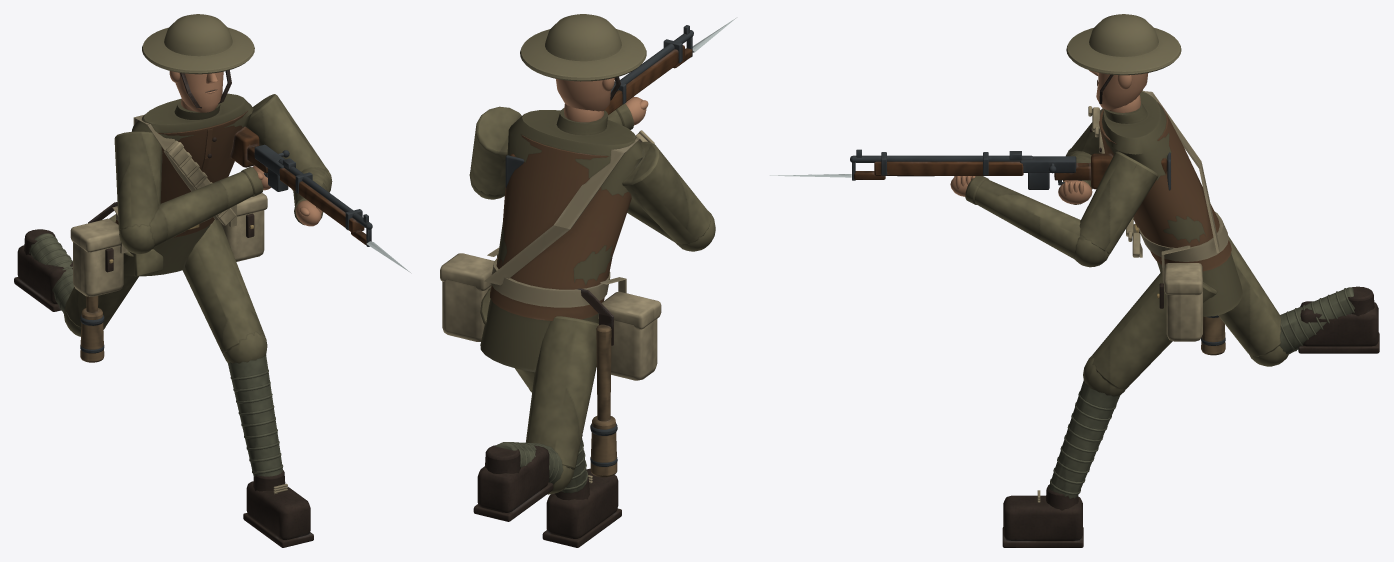
3 renders of one model, left to right at view 1: azimuth 30°, elevation 25°; view 2: azimuth 150°, elevation 25°; view 3: azimuth 270°, elevation 25°, orthographic. The views are drawn at different scales.
Visible parts, largest first — view 1: Leg_L, Helmet, Service_dress, Forearm_R, Upper_arm_R, Boot_L, Grenade_bag_R, Jerkin, Leg_R, Upper_arm_L, Grenade_bag_L, Rifle_woodwork (+7 smaller); view 2: Jerkin, Service_dress, Leg_R, Helmet, Upper_arm_R, Boot_R, Grenade_bag_R, Boot_L, Grenade_bag_L, Upper_arm_L, Trench_club, Bandolier (+10 smaller); view 3: Leg_L, Leg_R, Service_dress, Jerkin, Helmet, Forearm_L, Boot_L, Upper_arm_L, Boot_R, Grenade_bag_L, Rifle_woodwork, Rifle_metalwork (+4 smaller).
Part boxes in pixels (box(x1,y1,x2,y2)): Leg_L: box(182, 219, 283, 476); Helmet: box(142, 14, 254, 108); Service_dress: box(123, 93, 253, 276); Forearm_R: box(119, 167, 263, 254); Upper_arm_R: box(114, 131, 162, 231); Boot_L: box(243, 470, 313, 547); Grenade_bag_R: box(70, 206, 127, 296); Jerkin: box(115, 111, 247, 237); Leg_R: box(29, 214, 138, 336); Upper_arm_L: box(246, 94, 326, 190); Grenade_bag_L: box(221, 193, 267, 261); Rifle_woodwork: box(230, 126, 364, 232); Jerkin: box(490, 134, 631, 320); Service_dress: box(480, 108, 643, 372); Leg_R: box(495, 316, 598, 494); Helmet: box(520, 14, 646, 100); Upper_arm_R: box(622, 141, 710, 244); Boot_R: box(473, 445, 553, 521); Grenade_bag_R: box(598, 277, 661, 380); Boot_L: box(542, 468, 621, 547); Grenade_bag_L: box(440, 247, 498, 341); Upper_arm_L: box(470, 106, 521, 195); Trench_club: box(590, 324, 617, 477); Bandolier: box(484, 130, 654, 285); Leg_L: box(1049, 271, 1217, 498); Leg_R: box(1218, 236, 1354, 366); Service_dress: box(1102, 91, 1242, 316); Jerkin: box(1090, 102, 1231, 271); Helmet: box(1066, 14, 1181, 103); Forearm_L: box(965, 176, 1109, 267); Boot_L: box(1002, 484, 1083, 547); Upper_arm_L: box(1079, 151, 1158, 253); Boot_R: box(1298, 286, 1379, 353); Grenade_bag_L: box(1157, 245, 1202, 341); Rifle_woodwork: box(874, 153, 1167, 189); Rifle_metalwork: box(850, 149, 1170, 190).
Bounding box in the file's own units: 0.78 × 1.74 × 1.93.
1 material, 1 textured.
